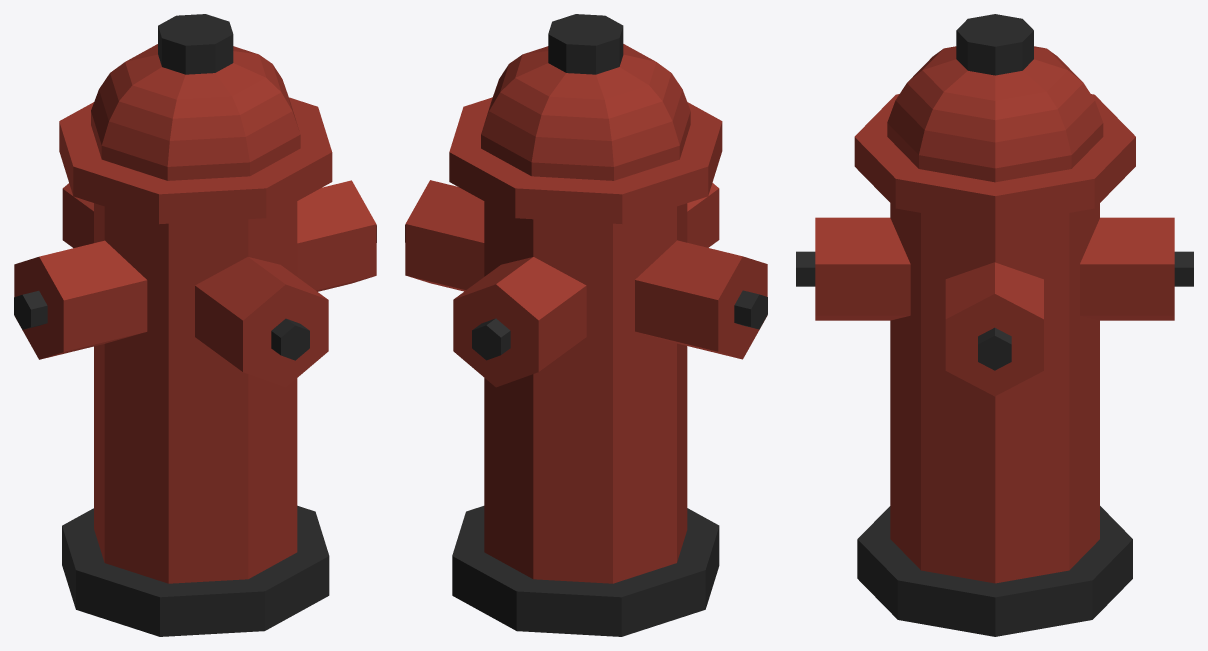
Rendered from Hydrant.obj.
The picture shows the model from 3 angles, left to right: view 1: azimuth 30°, elevation 25°; view 2: azimuth 150°, elevation 25°; view 3: azimuth 270°, elevation 25°; orthographic projection.
Parts seen in each view (by area): view 1: HYDRANT; view 2: HYDRANT; view 3: HYDRANT.
Part boxes in pixels (x1=…): HYDRANT: x1=14, y1=14, x2=376, y2=636; HYDRANT: x1=405, y1=14, x2=767, y2=636; HYDRANT: x1=796, y1=14, x2=1193, y2=636.
Size of the model in its own units: 1.22 by 1.85 by 1.22.
